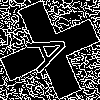A: (25, 25, 81, 75)
